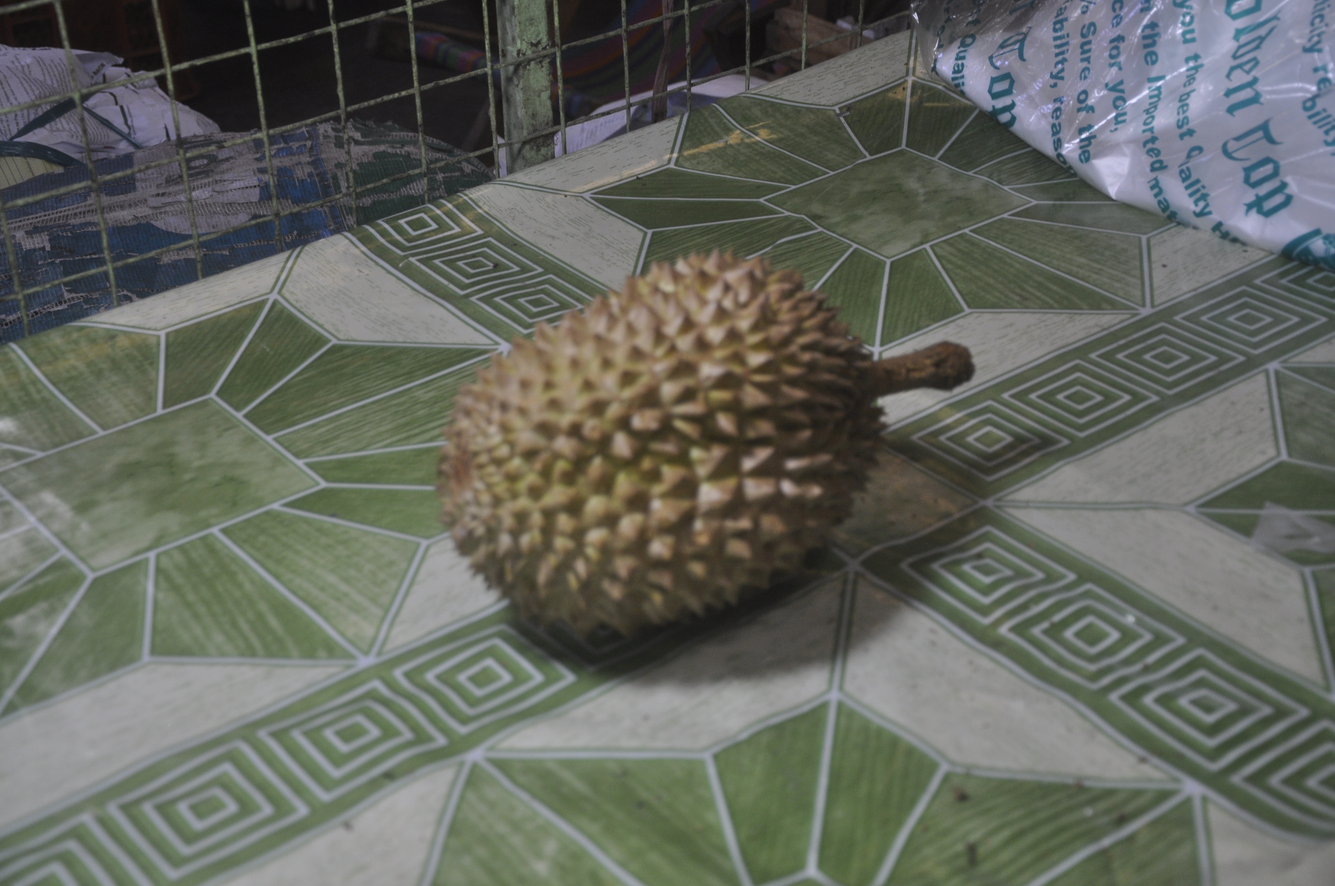mature: (438, 251, 973, 635)
